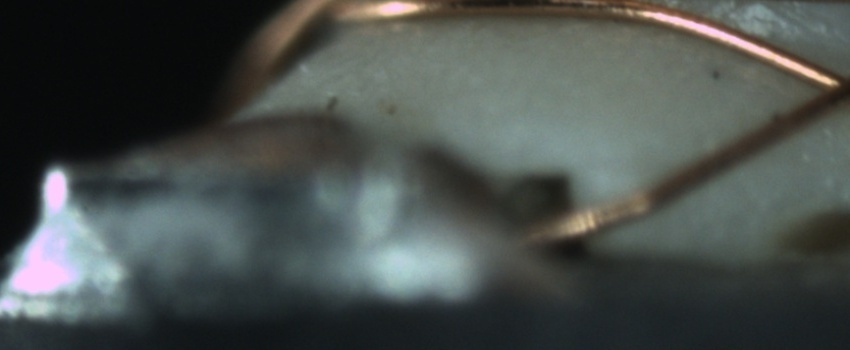CL: (797, 50, 850, 121)
